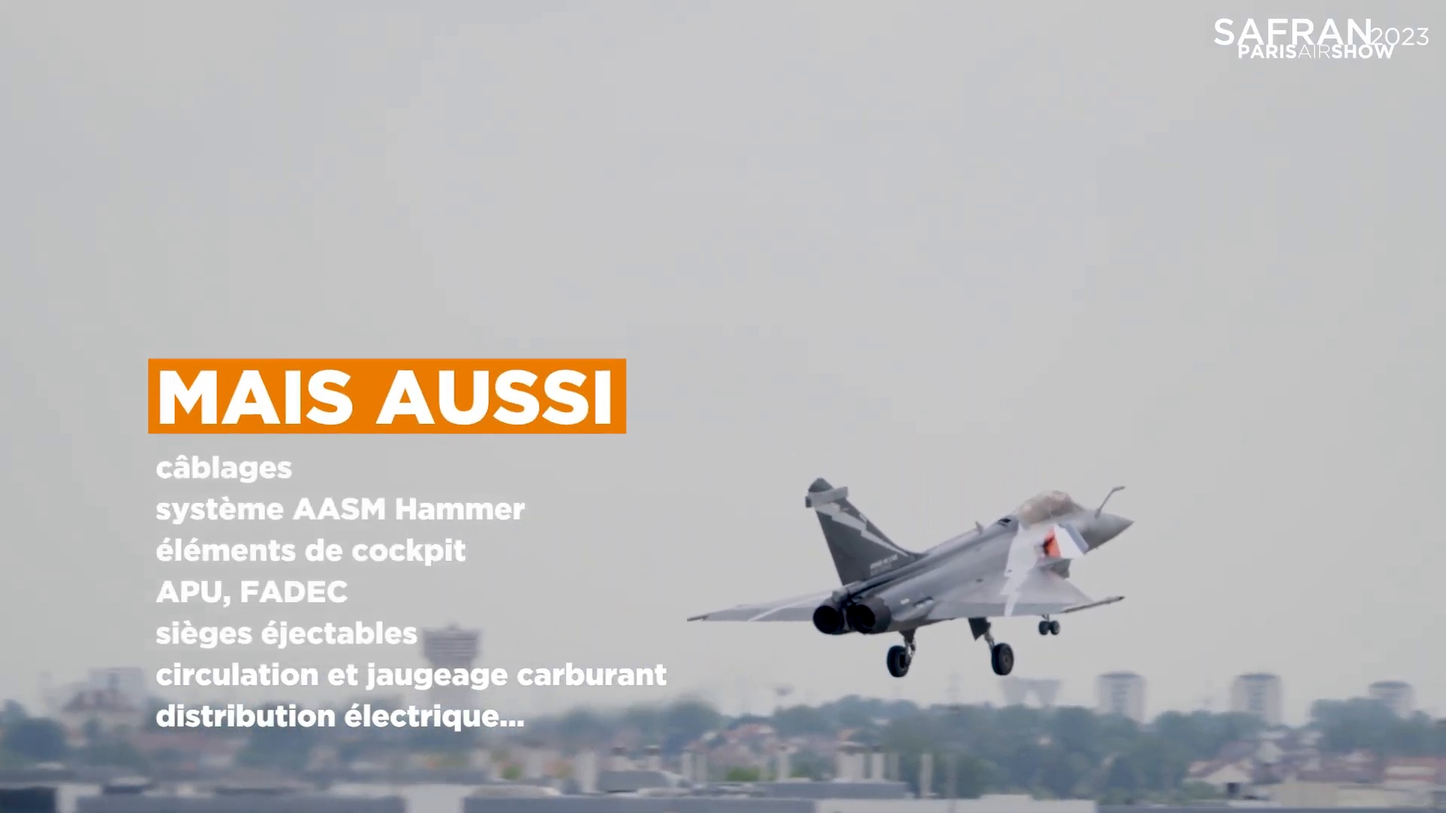Rafale: (682, 460, 1138, 684)
